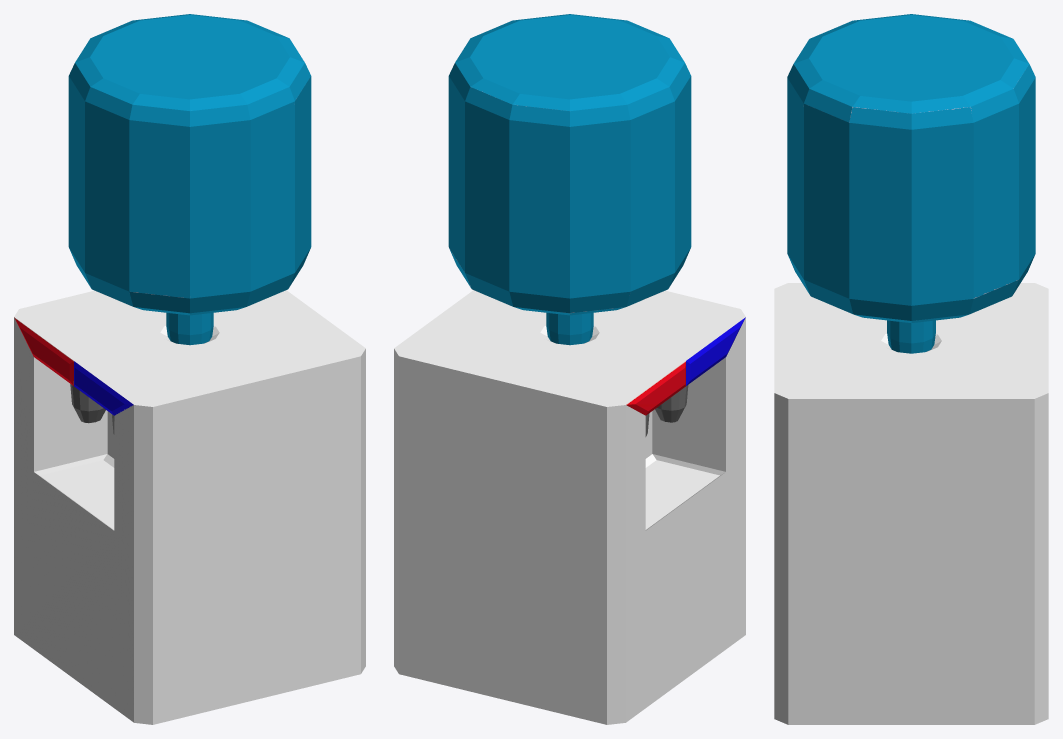
The model's file is watercoolr.fbx.
3 views of the same model, side by side, from view 1: azimuth 30°, elevation 25°; view 2: azimuth 150°, elevation 25°; view 3: azimuth 270°, elevation 25° (orthographic). The views are drawn at different scales.
Visible parts, largest first — view 1: Water Cooler; view 2: Water Cooler; view 3: Water Cooler.
Boxes of the visible parts, bbox=[...] form: Water Cooler: bbox=[14, 14, 365, 724]; Water Cooler: bbox=[394, 14, 745, 724]; Water Cooler: bbox=[774, 14, 1048, 724].
Size of the model in its own units: 98.15 by 98.96 by 240.
